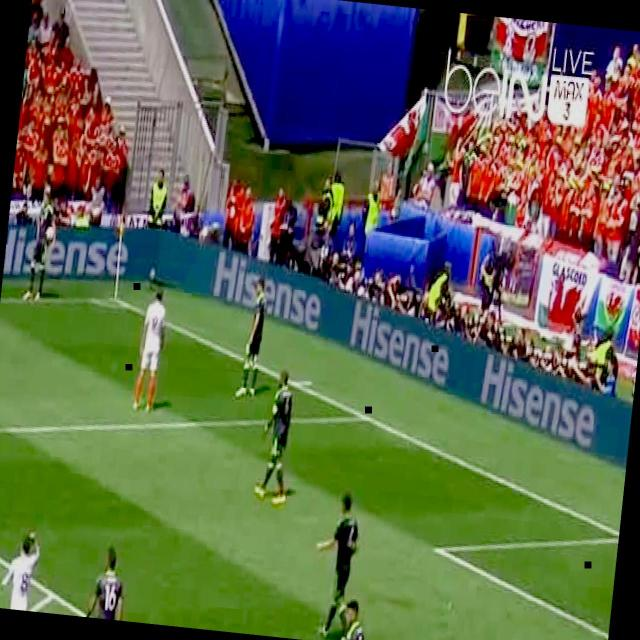ball: (45, 223, 55, 243)
player-white: (254, 367, 300, 507), (131, 287, 170, 413), (235, 276, 270, 399), (23, 193, 61, 305), (0, 525, 42, 611), (84, 544, 130, 621), (336, 596, 371, 640)
